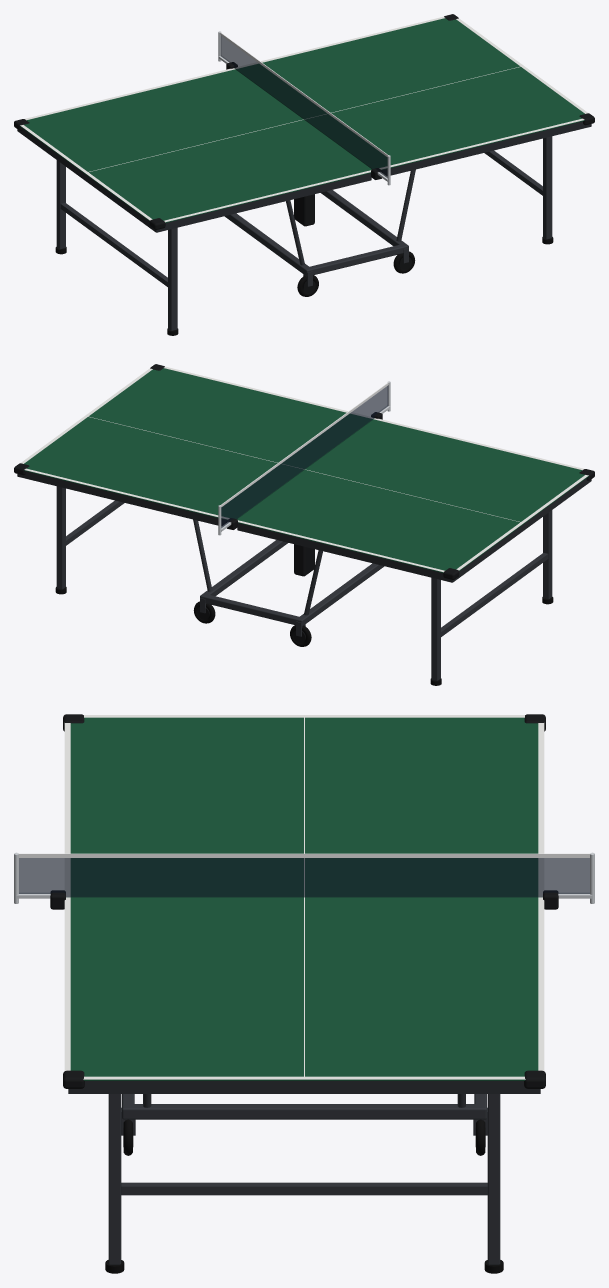
Rendered from platte-outdoor-gruen.glb.
The picture shows the model from 3 angles, top to bottom: view 1: azimuth 30°, elevation 25°; view 2: azimuth 150°, elevation 25°; view 3: azimuth 270°, elevation 25°; orthographic projection. The views are drawn at different scales.
Visible parts, largest first — view 1: Platte (×2), Hälfte A, Netz, Beine (×2), Fahrwerk, Hälfte B, Tischtennisplatte; view 2: Platte (×2), Hälfte A, Netz, Beine (×2), Fahrwerk, Hälfte B, Tischtennisplatte; view 3: Platte (×2), Netz, Hälfte B, Beine, Fahrwerk, Hälfte A.
Part boxes in pixels (box(x1,y1,x2,y2)): Platte (×2): box(20, 18, 584, 222); Hälfte A: box(14, 68, 371, 232); Netz: box(218, 31, 390, 185); Beine (×2): box(55, 136, 553, 335); Fahrwerk: box(224, 190, 415, 296); Hälfte B: box(235, 14, 594, 175); Tischtennisplatte: box(286, 169, 415, 265); Platte (×2): box(24, 368, 588, 572); Hälfte A: box(237, 418, 594, 582); Netz: box(218, 381, 390, 535); Beine (×2): box(55, 486, 553, 685); Fahrwerk: box(193, 540, 384, 646); Hälfte B: box(14, 364, 373, 525); Tischtennisplatte: box(193, 519, 322, 615); Platte (×2): box(70, 717, 538, 1080); Netz: box(14, 852, 594, 909); Hälfte B: box(63, 897, 545, 1093); Beine: box(105, 1094, 503, 1273); Fahrwerk: box(121, 1094, 487, 1155); Hälfte A: box(63, 714, 545, 896).
Size of the model in its own units: 2.75 by 0.9125 by 1.85.
